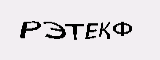Е: (82, 21, 99, 42)
Р: (17, 20, 41, 41)
Т: (64, 20, 82, 39)
Ф: (112, 18, 133, 38)
Э: (43, 17, 67, 40)
Қ: (99, 20, 113, 41)
